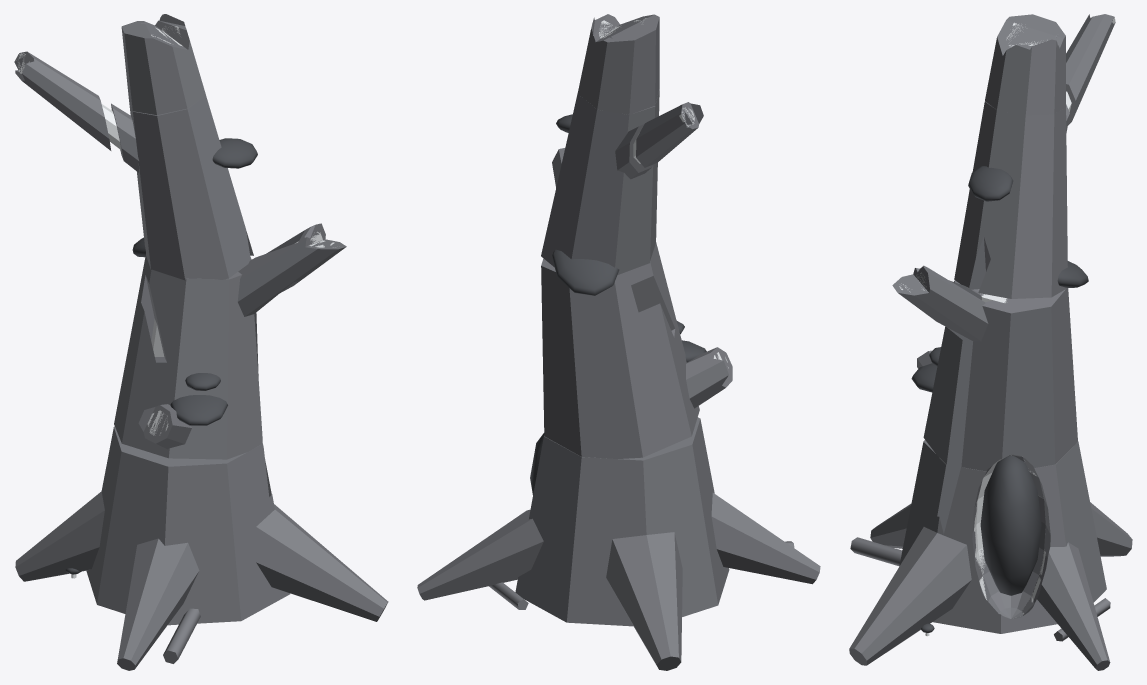
Rendered from tree-dead-snag.glb.
The picture shows the model from 3 angles, left to right: view 1: azimuth 30°, elevation 25°; view 2: azimuth 150°, elevation 25°; view 3: azimuth 270°, elevation 25°; orthographic projection. The views are drawn at different scales.
Visible parts, largest first — view 1: Mesh_BarkCut, Mesh_ShelfA1_Cap, Mesh_InnerCut, Mesh_ShelfC_Cap, Mesh_FallenBranchA; view 2: Mesh_BarkCut, Mesh_ShelfB_Cap; view 3: Mesh_BarkCut, DeadSnag, Mesh_InnerCut, Mesh_ShelfC_Cap, Mesh_FallenBranchA, Mesh_ShelfB_Cap, Mesh_ShelfA1_Cap.
Boxes of the visible parts, x1=… form: Mesh_BarkCut: x1=14, y1=14, x2=388, y2=670; Mesh_ShelfA1_Cap: x1=170, y1=395, x2=227, y2=425; Mesh_InnerCut: x1=15, y1=26, x2=335, y2=435; Mesh_ShelfC_Cap: x1=212, y1=138, x2=257, y2=168; Mesh_FallenBranchA: x1=163, y1=608, x2=200, y2=663; Mesh_BarkCut: x1=417, y1=14, x2=820, y2=670; Mesh_ShelfB_Cap: x1=551, y1=249, x2=619, y2=295; Mesh_BarkCut: x1=849, y1=14, x2=1132, y2=670; DeadSnag: x1=980, y1=455, x2=1041, y2=595; Mesh_InnerCut: x1=899, y1=17, x2=1115, y2=614; Mesh_ShelfC_Cap: x1=968, y1=166, x2=1013, y2=201; Mesh_FallenBranchA: x1=850, y1=537, x2=902, y2=565; Mesh_ShelfB_Cap: x1=1057, y1=261, x2=1088, y2=287; Mesh_ShelfA1_Cap: x1=911, y1=363, x2=937, y2=392.
Size of the model in its own units: 1.56 by 3.09 by 1.39.
Materials: 3 (3 with a texture image).
